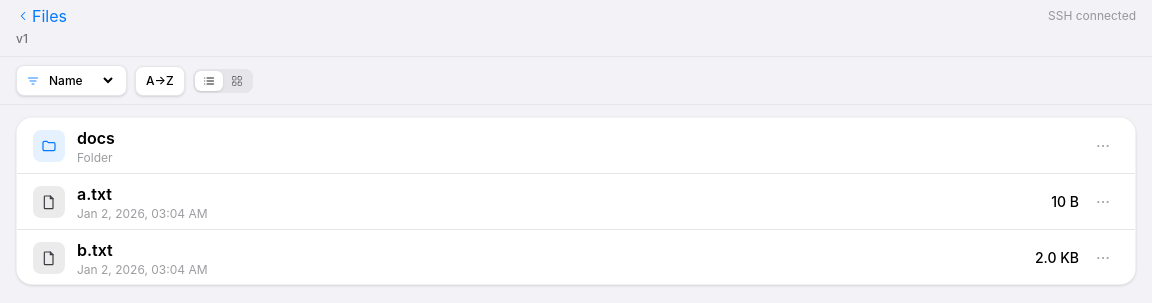
Test: navigation and states › enters a subdirectory and updates breadcrumbs
The width and height of the screenshot is (1152, 303).
Expected: the element with test id "entry-0" is shown, [17,118,1135,174]
What coordinates should you click on to do the following:
click the button with test id "open-dir"
I would click on:
 (49, 146)
Its box is [33,126,1079,166].
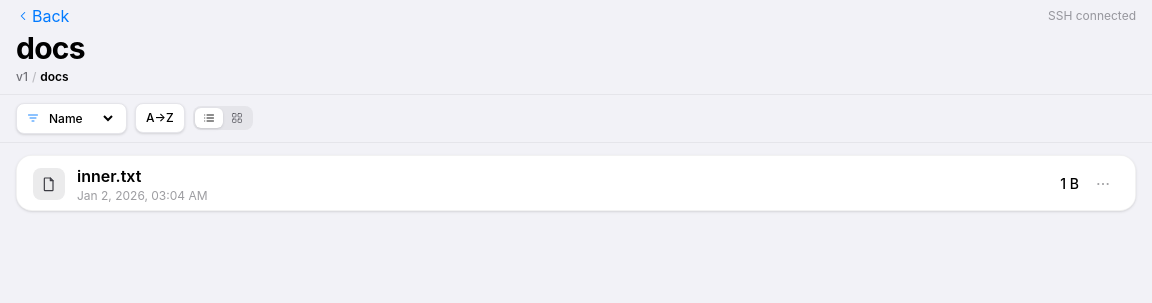
Result: the navigation bar with test id "breadcrumbs" shows "docs" at [40,68,69,84]
Result: the element with test id "entry-0" shows "inner.txt" at [33,164,1052,204]
